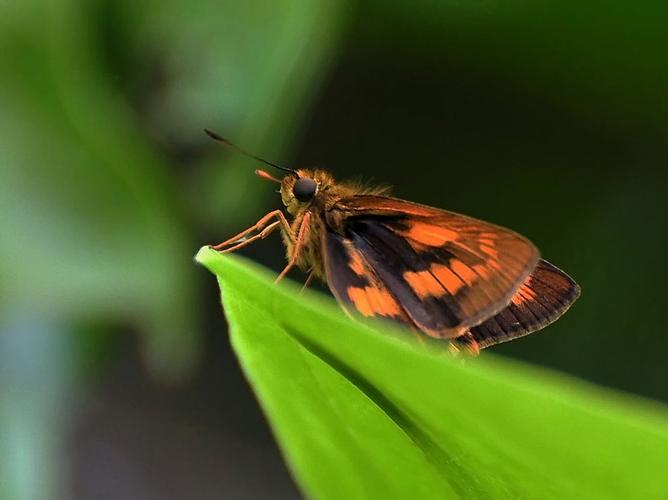Hesperiidae: (201, 130, 589, 362)
